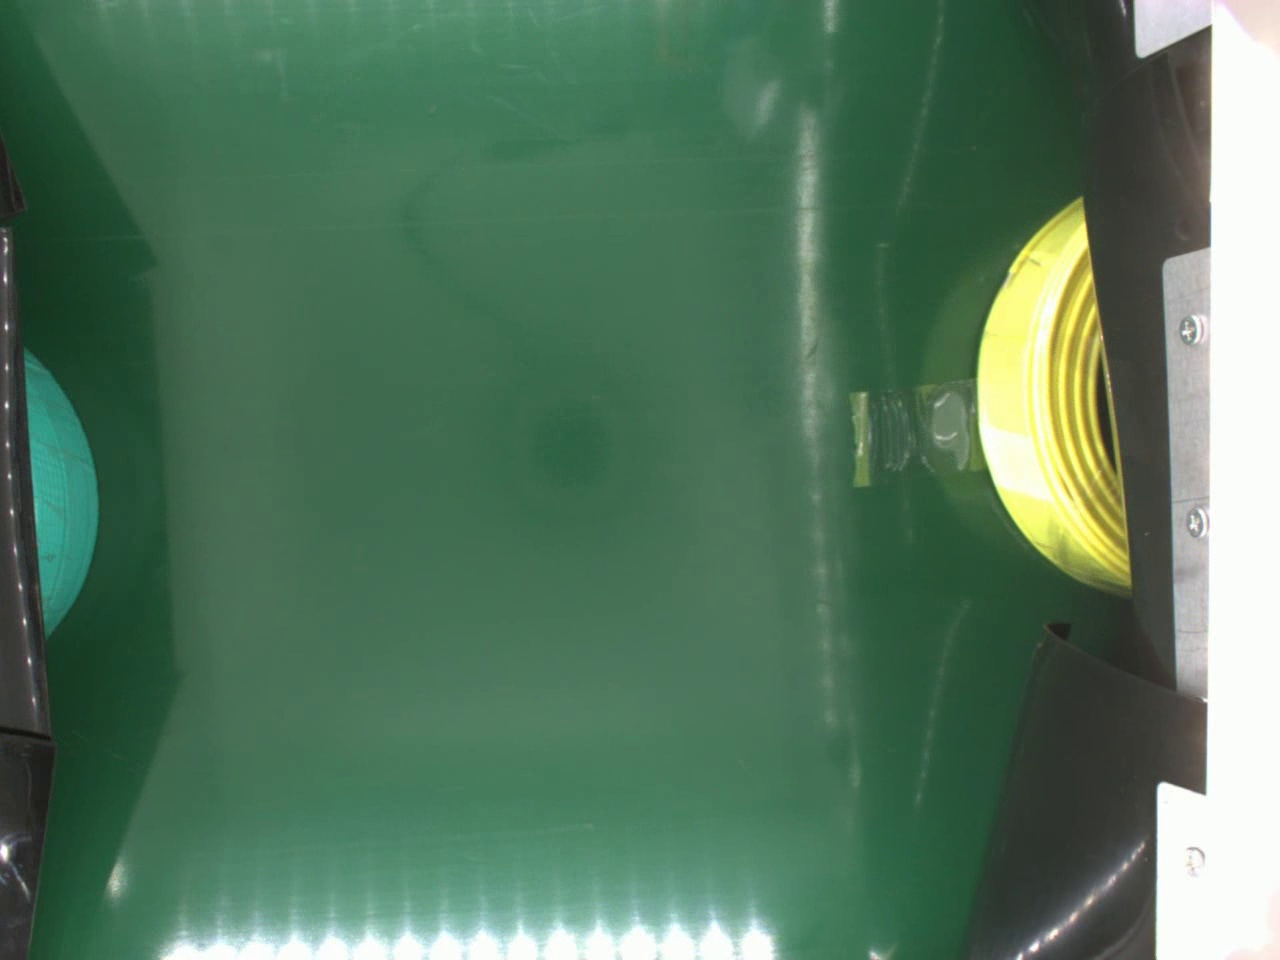yellow: (972, 193, 1126, 590)
